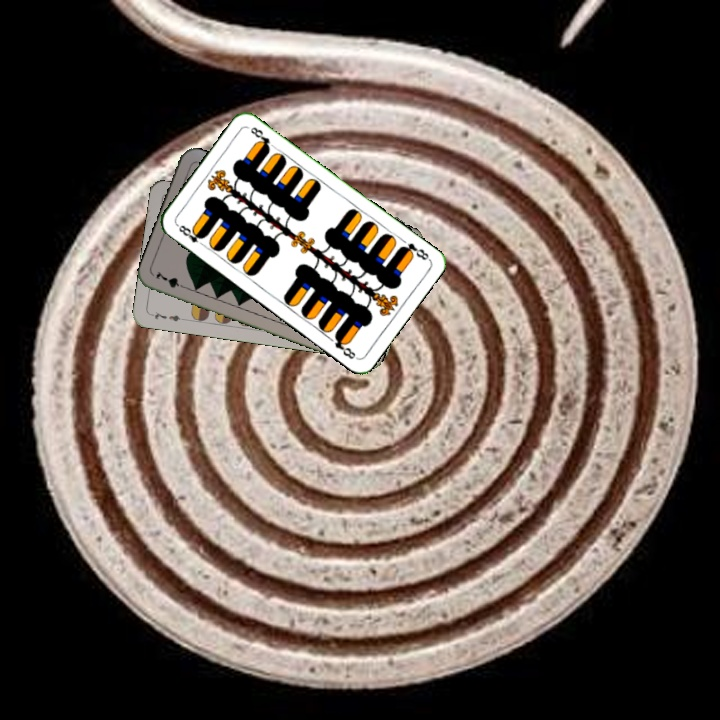E7: (147, 308, 187, 324)
E8: (173, 220, 208, 249), (396, 239, 432, 263)
G7: (151, 268, 190, 292)
